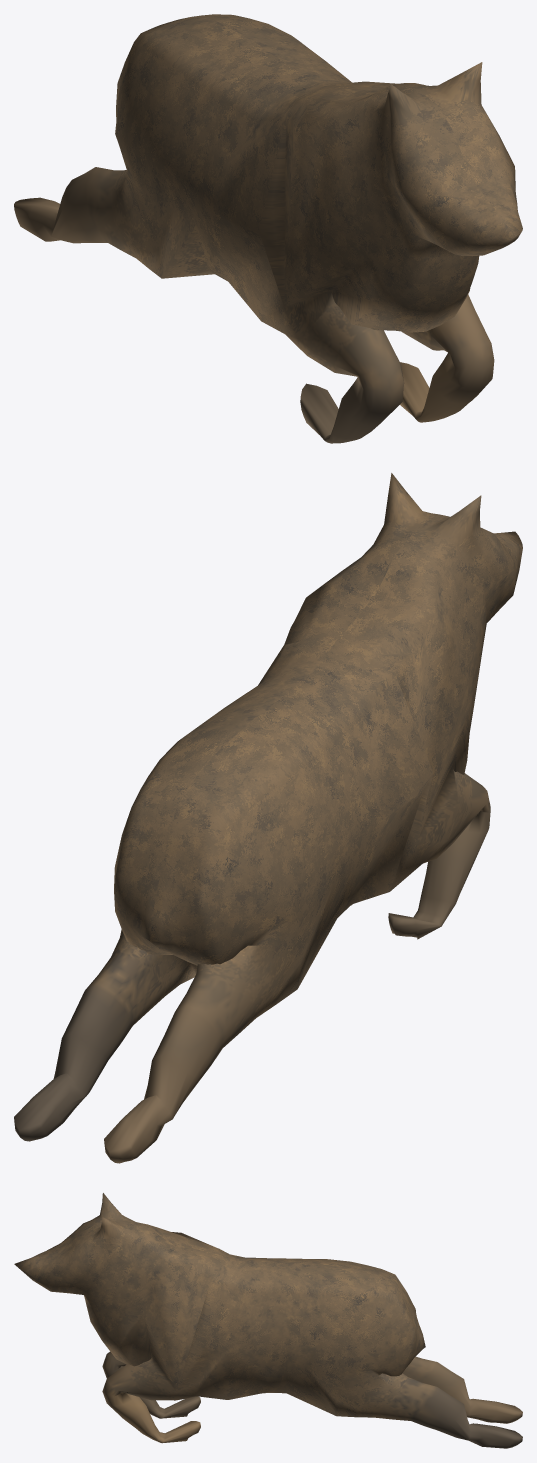
Rendered from piesblend_000019.obj.
The picture shows the model from 3 angles, top to bottom: view 1: azimuth 30°, elevation 25°; view 2: azimuth 150°, elevation 25°; view 3: azimuth 270°, elevation 25°; orthographic projection. The views are drawn at different scales.
Visible parts, largest first — view 1: Cube; view 2: Cube; view 3: Cube.
Part boxes in pixels (<box>): Cube: <box>14,14,522,443</box>; Cube: <box>14,473,522,1163</box>; Cube: <box>14,1193,522,1448</box>.
Size of the model in its own units: 2.55 by 5.41 by 10.8.
1 material, 1 textured.
